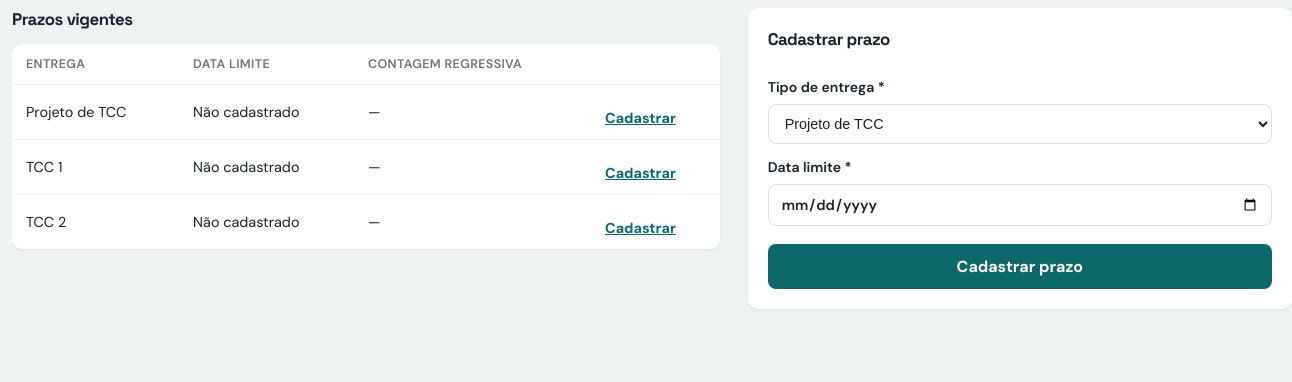
Test: GestaoCalendario › deve exibir erro de bloqueio (403) caso um professor não responsável tente cadastrar prazo
Type "2026-11-30" into the date field labelled "Data limite *".
click(1020, 205); type("2026-11-30")  # box [768, 184, 1272, 226]
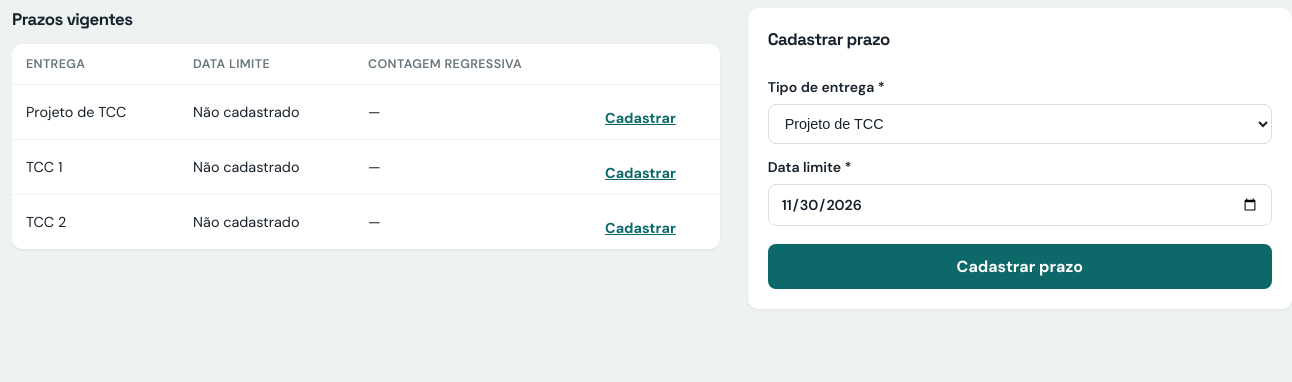
Click the button "Cadastrar prazo".
click(1020, 266)  # box [768, 244, 1272, 289]
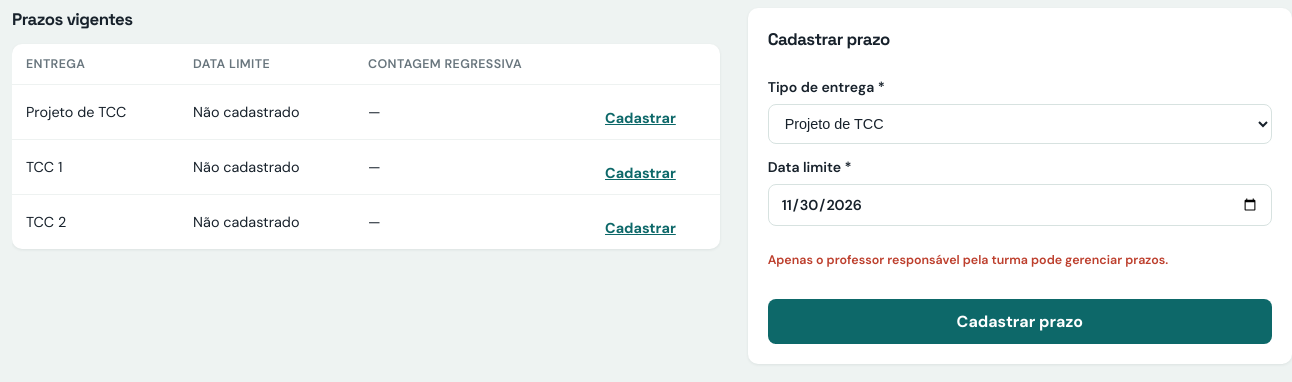
Result: the message reads "Apenas o professor responsável pela turma pode gerenciar prazos." at [768, 252, 1168, 268]
